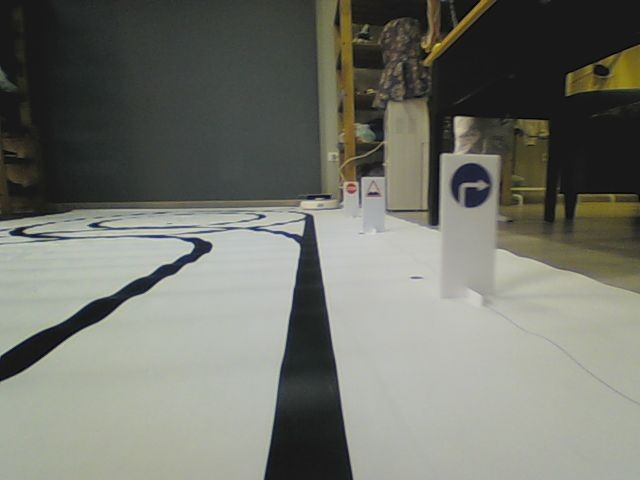Nerov: (364, 178, 382, 197)
Right: (448, 161, 493, 209)
